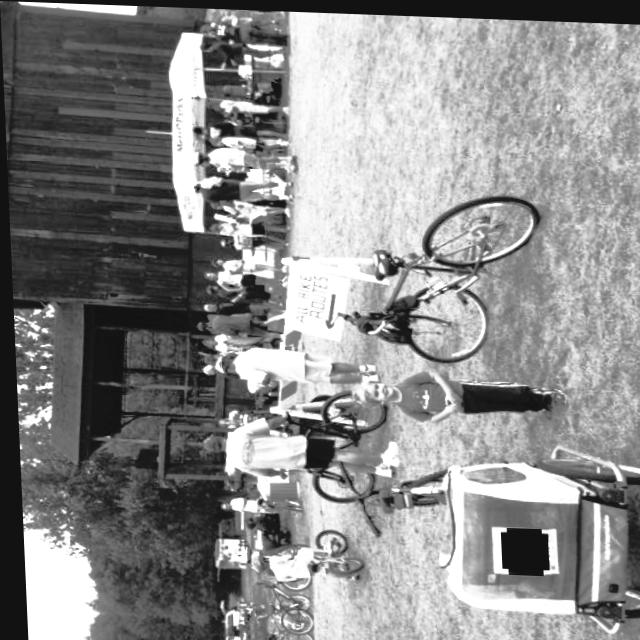qr_code: (499, 525, 541, 568)
